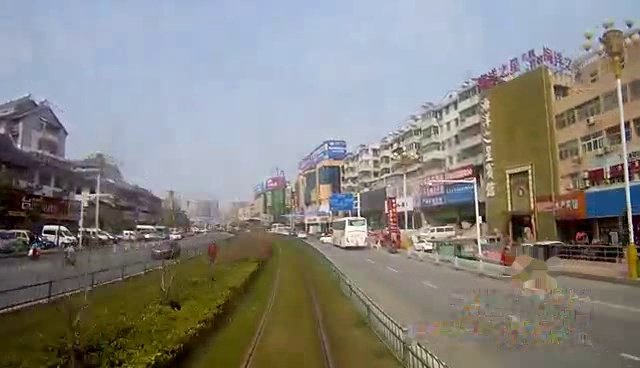bus: (329, 214, 372, 251)
car: (149, 240, 181, 258)
